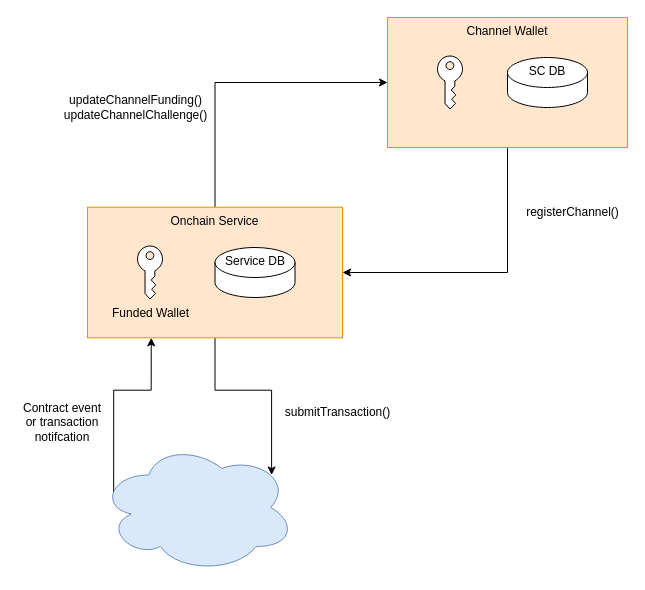
Some shapes in this 645 by 590 pixel diagram are drawn without their labels. Each missing label, with the centre of its shape:
"Chain" goes at (197,507).
"Private Key" goes at (449,82).
